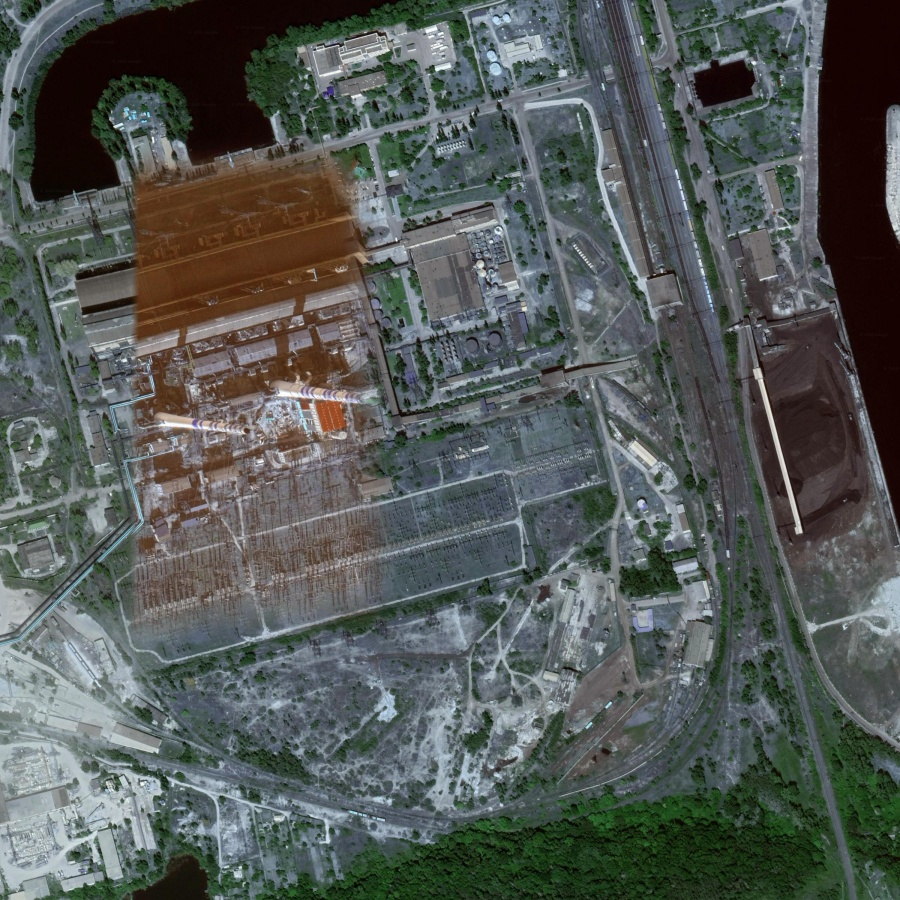PowerPlant: (99, 253, 439, 522)
